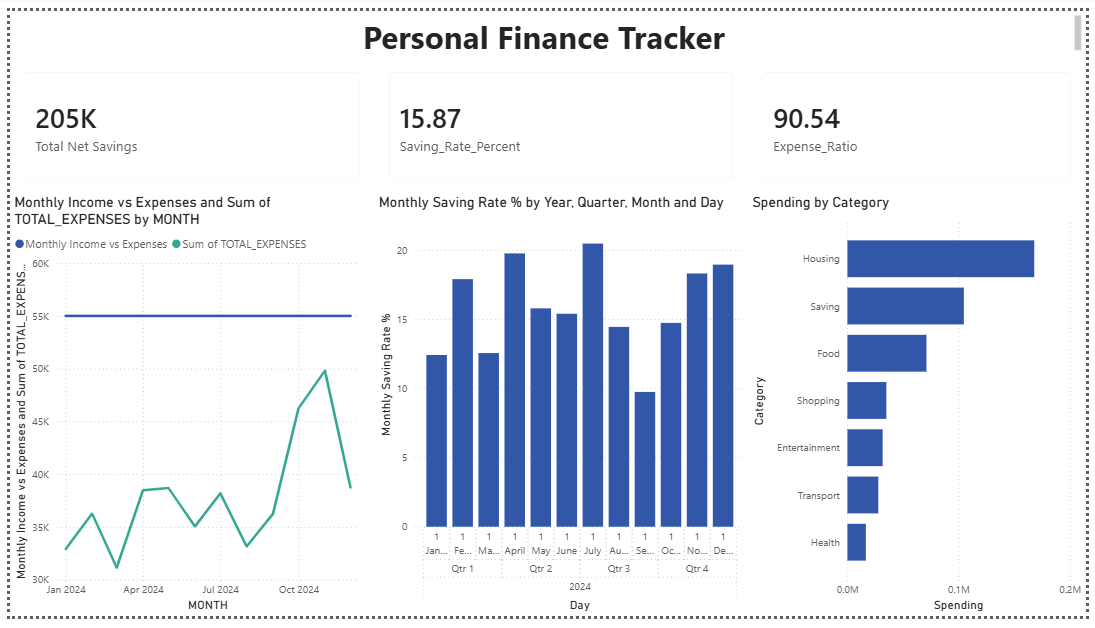

This screenshot's page, from the dashboard's own definition file:
{"tool":"powerbi","page":{"name":"Dashboard","canvas":[1280,720],"ordinal":0},"visuals":[{"type":"lineChart","fields":{"Y":["Sum(query1_income_expenses.TOTAL_INCOME)","Sum(query1_income_expenses.TOTAL_EXPENSES)"],"Category":["query1_income_expenses.MONTH"]},"box":[0,217.9,433.9,501.8],"z":0},{"type":"clusteredBarChart","fields":{"Category":["query2_category_spending.CATEGORY"],"Y":["Sum(query2_category_spending.TOTAL_SPEND)"]},"box":[878.6,217.9,401.8,501.8],"z":1000},{"type":"clusteredColumnChart","fields":{"Y":["Sum(query3_savings_rate.SAVINGS_RATE_PERCENT)"],"Category":["query3_savings_rate.MONTH.Variation.Date Hierarchy.Year","query3_savings_rate.MONTH.Variation.Date Hierarchy.Quarter","query3_savings_rate.MONTH.Variation.Date Hierarchy.Month","query3_savings_rate.MONTH.Variation.Date Hierarchy.Day"]},"box":[433.9,217.9,444.6,501.8],"z":2000},{"type":"cardVisual","fields":{"Data":["Sum(query1_income_expenses.NET_SAVINGS)"]},"box":[0,55.4,433.9,162.5],"z":2001},{"type":"cardVisual","fields":{"Data":["Avg(query3_savings_rate.SAVINGS_RATE_PERCENT)"]},"box":[433.9,55.4,444.6,162.5],"z":2002},{"type":"cardVisual","fields":{"Data":["Max(query4_overspending.EXPENSE_RATIO)"]},"box":[878.6,55.4,401.8,162.5],"z":2003},{"type":"textbox","box":[0,0,1280.4,55.4],"z":2004}]}

Visuals, with their boxes in screenshot pixels (x1, y1, x2, y2), scaled from the page's 1280x720 canvas onto the 1095x628 screenshot:
lineChart - Sum(query1_income_expenses.TOTAL_INCOME) x Sum(query1_income_expenses.TOTAL_EXPENSES): [x1=0, y1=190, x2=371, y2=627]
clusteredBarChart - query2_category_spending.CATEGORY x Sum(query2_category_spending.TOTAL_SPEND): [x1=752, y1=190, x2=1094, y2=627]
clusteredColumnChart - Sum(query3_savings_rate.SAVINGS_RATE_PERCENT) x query3_savings_rate.MONTH.Variation.Date Hierarchy.Year: [x1=371, y1=190, x2=752, y2=627]
cardVisual - Sum(query1_income_expenses.NET_SAVINGS): [x1=0, y1=48, x2=371, y2=190]
cardVisual - Avg(query3_savings_rate.SAVINGS_RATE_PERCENT): [x1=371, y1=48, x2=752, y2=190]
cardVisual - Max(query4_overspending.EXPENSE_RATIO): [x1=752, y1=48, x2=1094, y2=190]
textbox: [x1=0, y1=0, x2=1094, y2=48]
